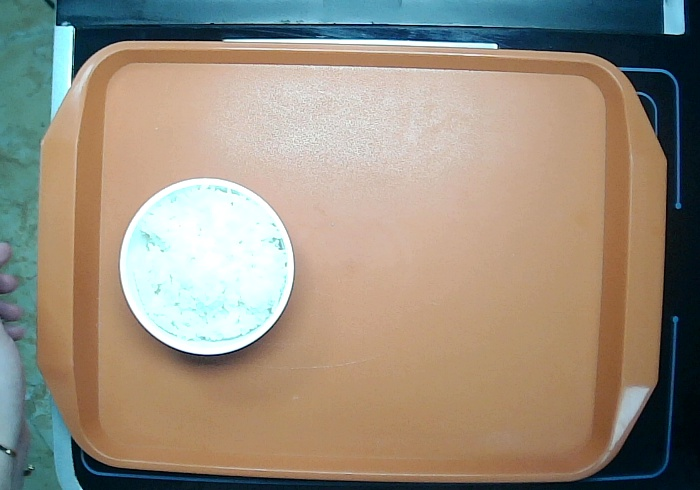HZYJPL-Fan_Wan: (113, 172, 299, 360)
